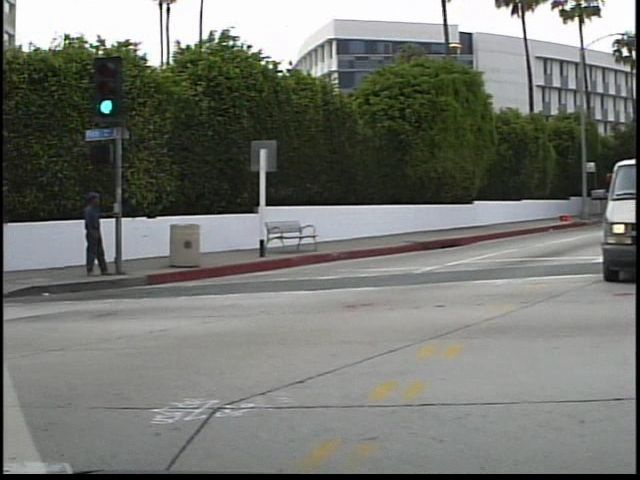person: (71, 189, 115, 278)
